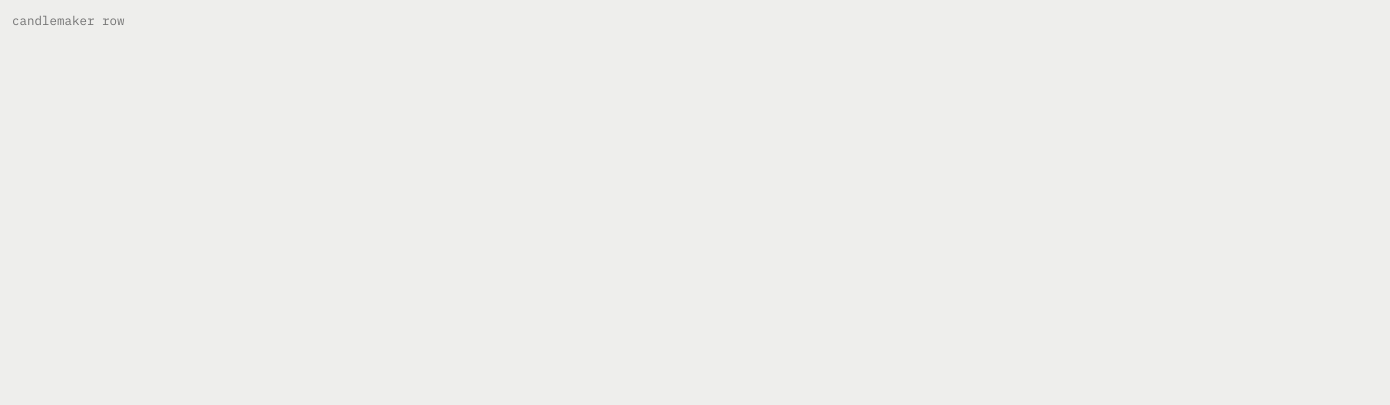
discards autocomplete results that arrive after the search was cleared
Click the dropdown: (695, 20) [12,12,1378,28]
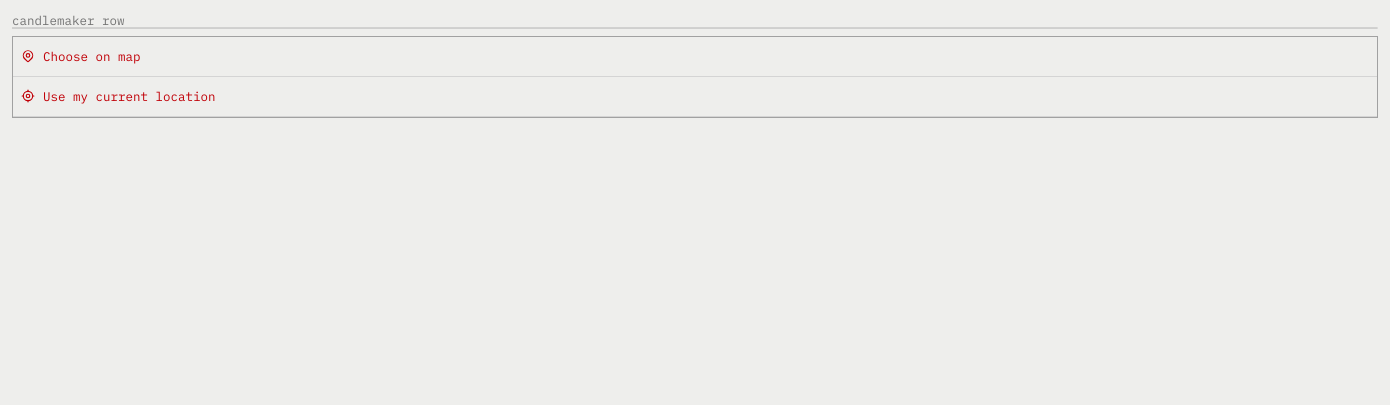
Click the button "Choose on map": (92, 56) [13,37,1377,77]
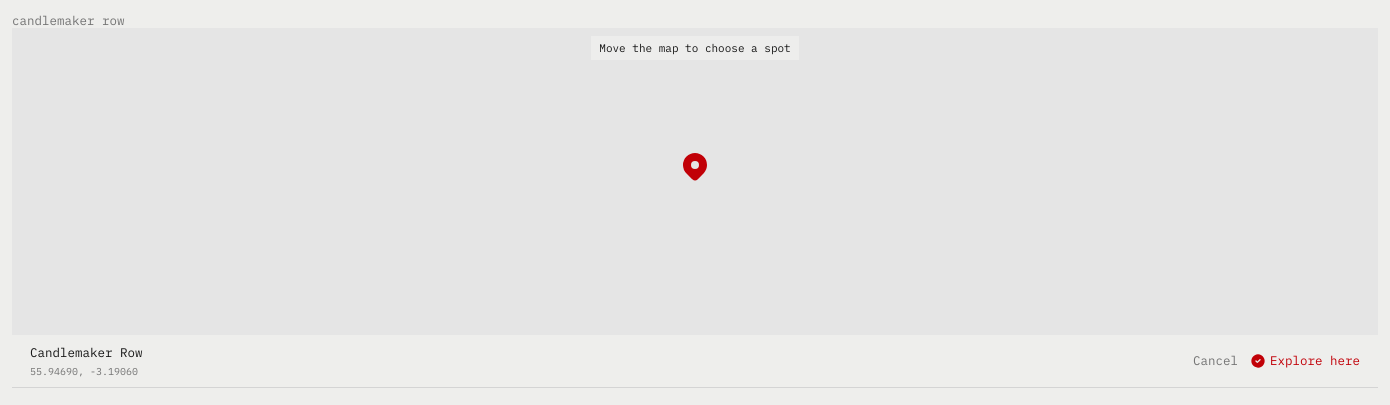
In the dropdown: (695, 20) [12,12,1378,28], type "castle"
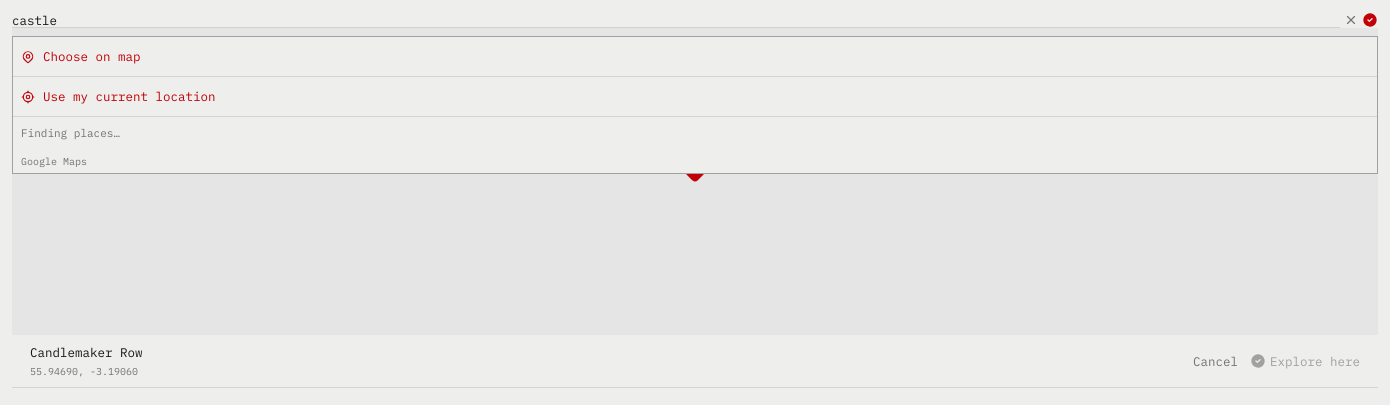
Click the button named "Clear search": (1351, 20) [1344,13,1358,27]
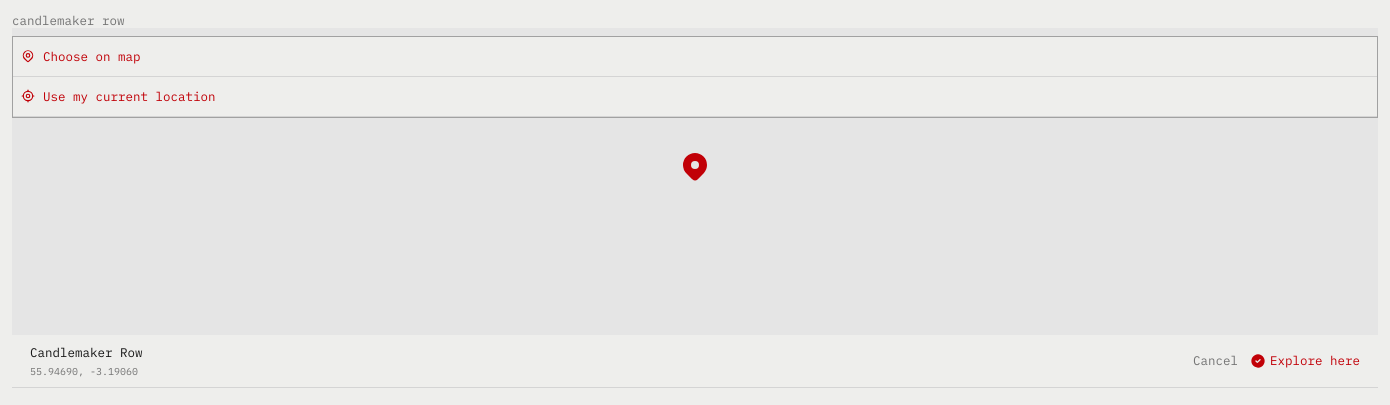
Check: the button "Explore here" is enabled, box [1250,343,1360,379]
